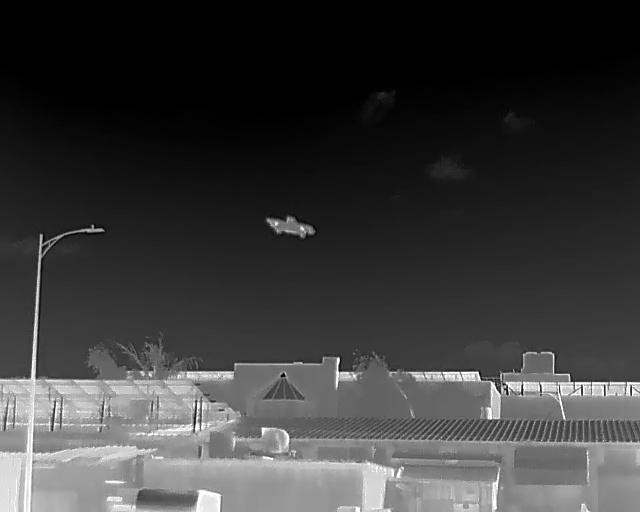fpv-drone: (266, 216, 315, 238)
